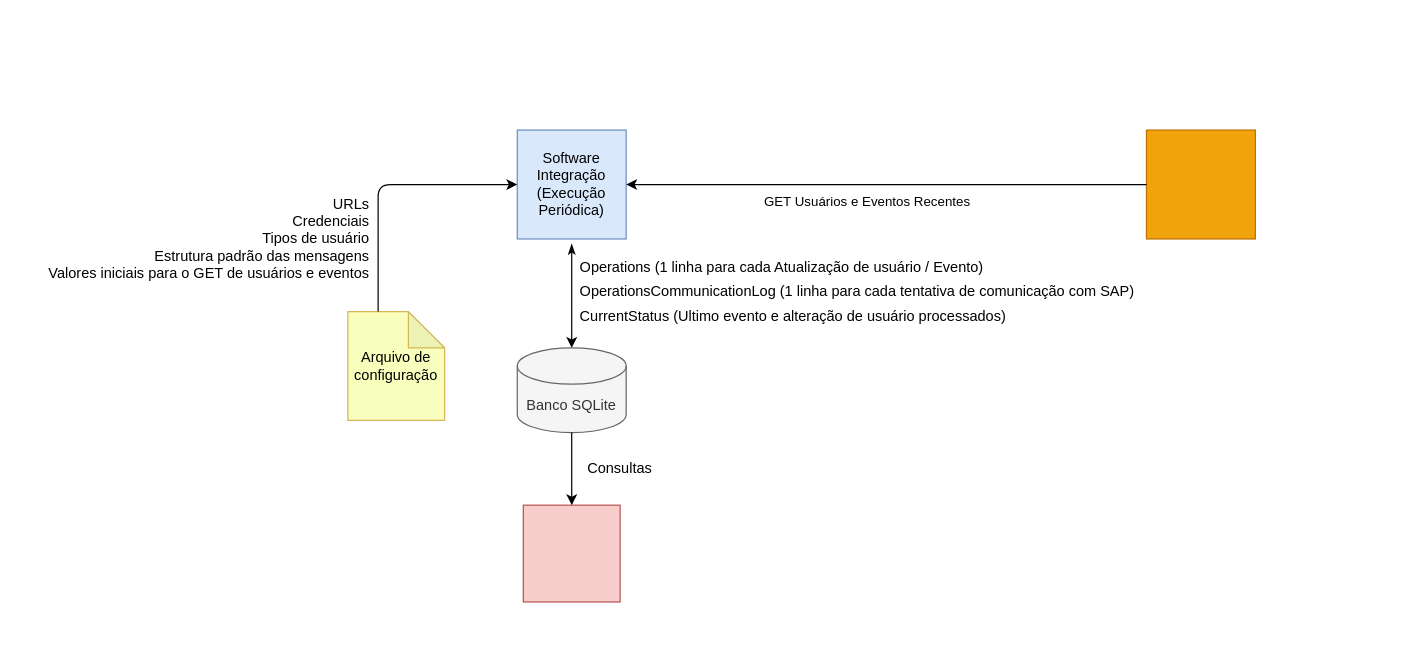
This 1408x658 diagram has some shape labels left out. Here are the shapes that lost their labels. From the top down, the centre of each, then its label:
At [1200,184]: "W-Access".
At [571,553]: "Software de geração de reports".
